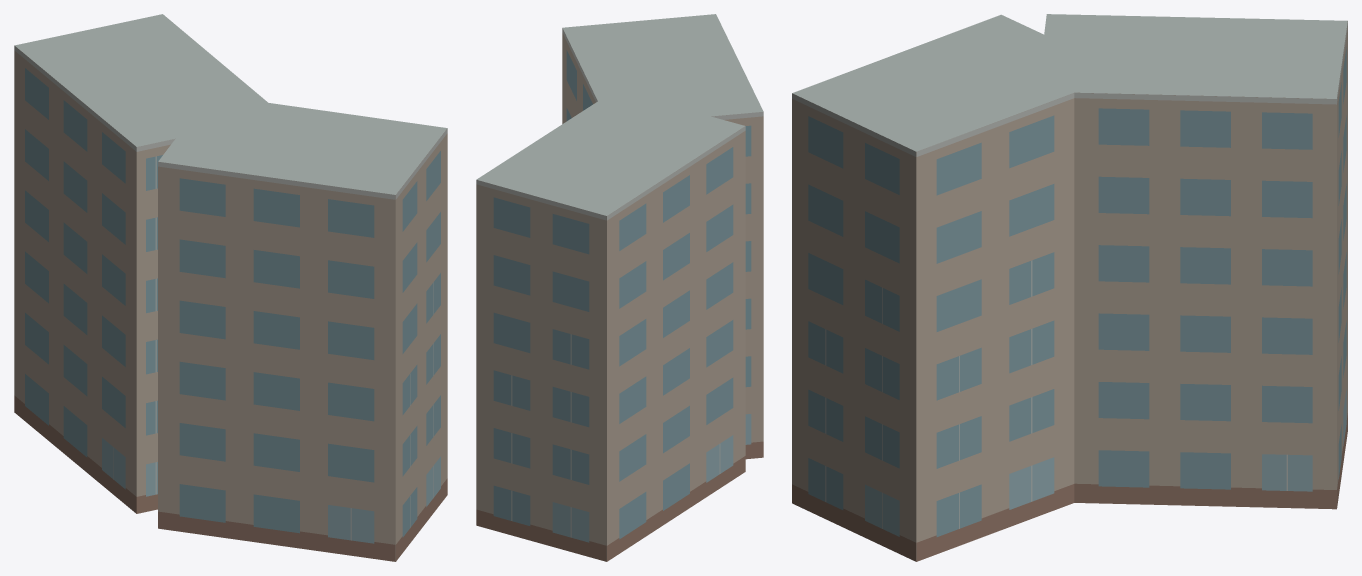
Rendered from survey-upis-32848408.glb.
The picture shows the model from 3 angles, left to right: view 1: azimuth 30°, elevation 25°; view 2: azimuth 150°, elevation 25°; view 3: azimuth 270°, elevation 25°; orthographic projection. The views are drawn at different scales.
Visible parts, largest first — view 1: survey-upis-32848408.tmp; view 2: survey-upis-32848408.tmp; view 3: survey-upis-32848408.tmp.
Boxes of the visible parts, x1,y1,x2,y2 form: survey-upis-32848408.tmp: (14, 14, 447, 561); survey-upis-32848408.tmp: (476, 14, 763, 561); survey-upis-32848408.tmp: (792, 14, 1347, 561).
Bounding box in the file's own units: 13.19 × 18.3 × 22.48.
